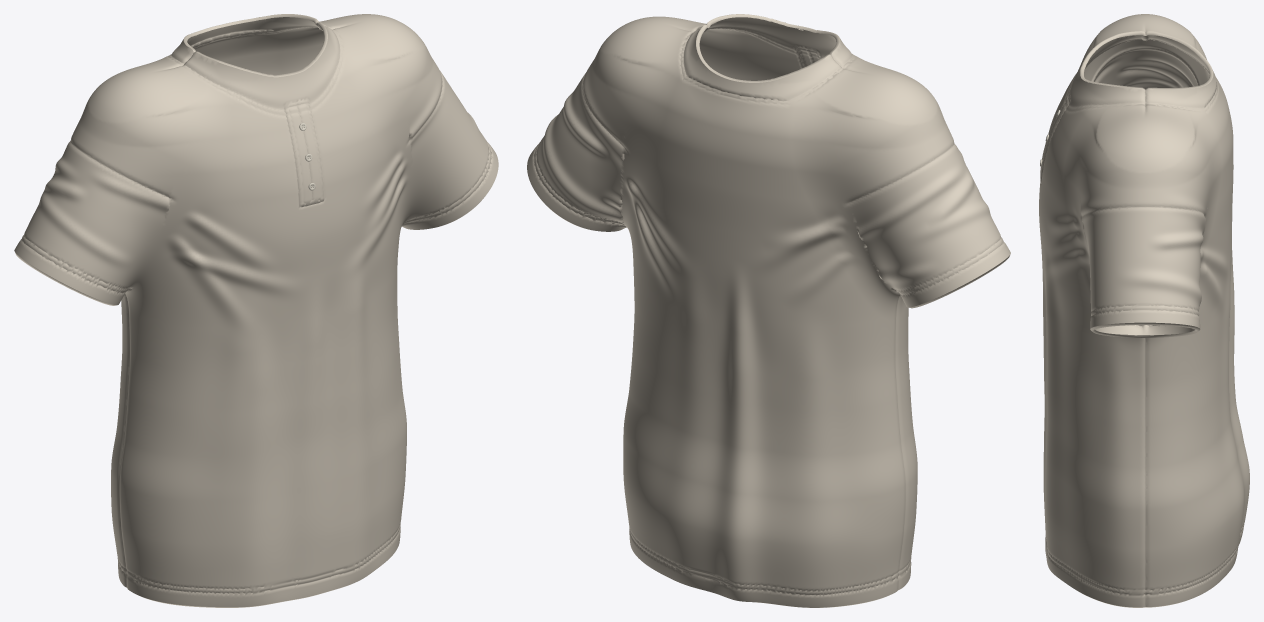
File: 10_camiseta_henley.glb
3 views of the same model, side by side, from view 1: azimuth 30°, elevation 25°; view 2: azimuth 150°, elevation 25°; view 3: azimuth 270°, elevation 25° (orthographic). The views are drawn at different scales.
Visible parts, largest first — view 1: body; view 2: body; view 3: body.
Boxes of the visible parts, x1,y1,x2,y2 form: body: [14, 14, 498, 607]; body: [527, 14, 1010, 607]; body: [1039, 14, 1249, 607].
Bounding box in the file's own units: 0.6856 × 0.7356 × 0.2869.
